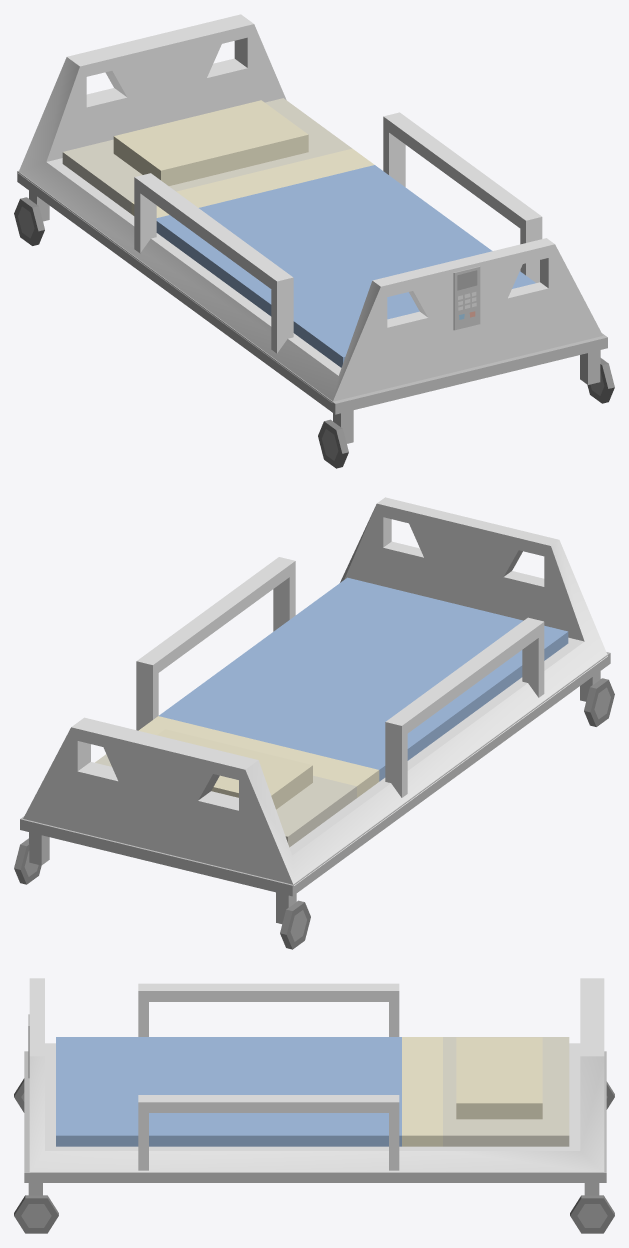
The model's file is bunk_2.fbx.
The picture shows the model from 3 angles, top to bottom: view 1: azimuth 30°, elevation 25°; view 2: azimuth 150°, elevation 25°; view 3: azimuth 270°, elevation 25°; orthographic projection. The views are drawn at different scales.
Parts seen in each view (by area): view 1: Cube_75_1; view 2: Cube_75_1; view 3: Cube_75_1.
Boxes of the visible parts, x1=… form: Cube_75_1: x1=14, y1=14, x2=614, y2=468; Cube_75_1: x1=14, y1=497, x2=614, y2=949; Cube_75_1: x1=14, y1=978, x2=614, y2=1233.
Size of the model in its own units: 53.22 by 31.27 by 110.
